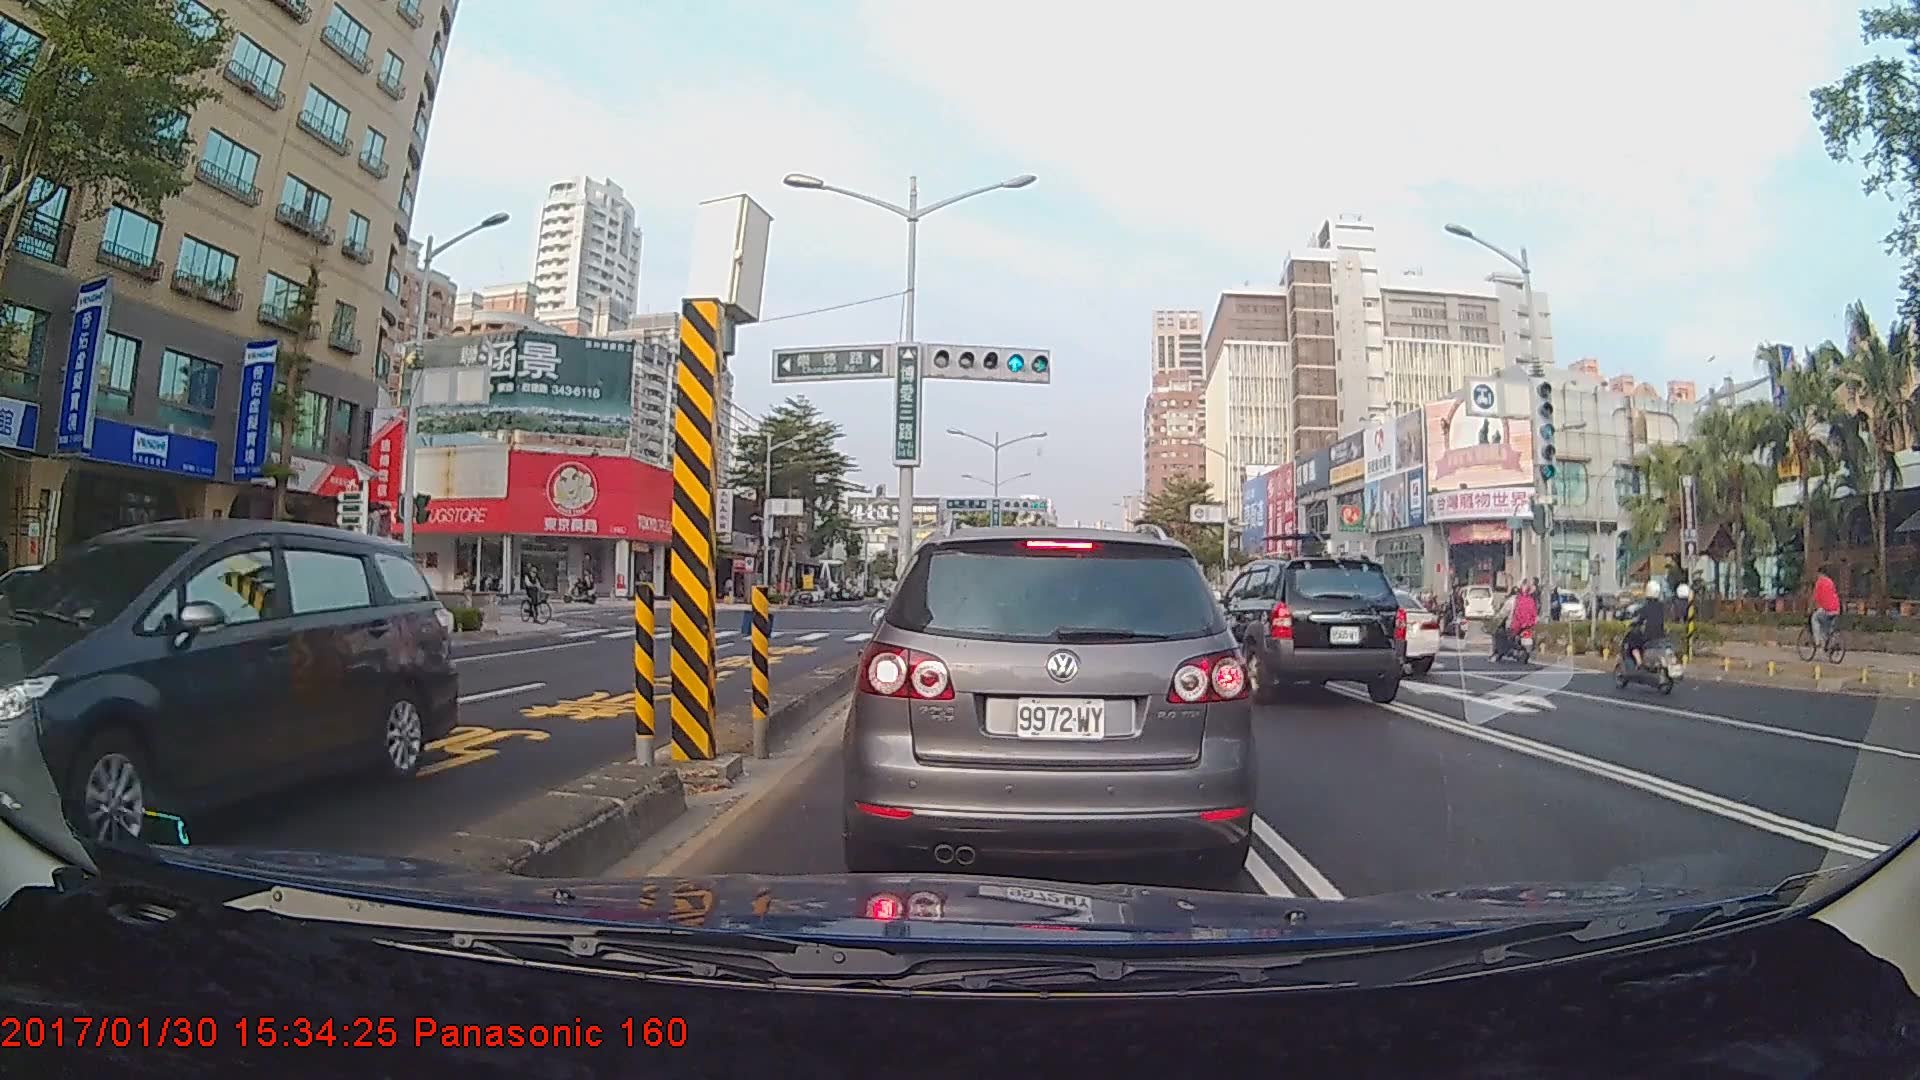pedestrian: (1585, 581, 1606, 640)
rider: (1616, 575, 1680, 703), (1485, 582, 1548, 668), (1791, 567, 1844, 661), (1653, 578, 1707, 654), (558, 563, 604, 611)
vehicle: (0, 515, 453, 882), (852, 520, 1248, 880), (1184, 550, 1409, 703)
